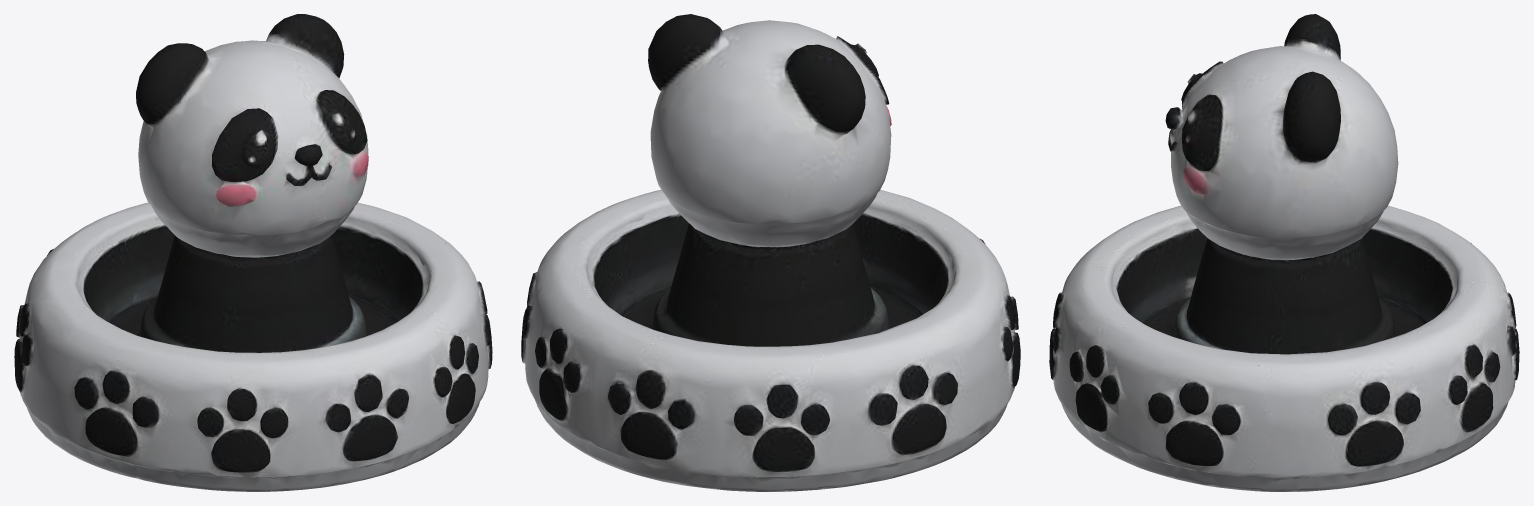
The model's file is mallet-panda.glb.
3 views of the same model, side by side, from view 1: azimuth 30°, elevation 25°; view 2: azimuth 150°, elevation 25°; view 3: azimuth 270°, elevation 25° (orthographic). The views are drawn at different scales.
Parts seen in each view (by area): view 1: tripo_node_6b4b7de1-1f06-4921-b499-4c4f0bf6fdb8; view 2: tripo_node_6b4b7de1-1f06-4921-b499-4c4f0bf6fdb8; view 3: tripo_node_6b4b7de1-1f06-4921-b499-4c4f0bf6fdb8.
Part boxes in pixels (x1=…): tripo_node_6b4b7de1-1f06-4921-b499-4c4f0bf6fdb8: x1=14, y1=14, x2=492, y2=491; tripo_node_6b4b7de1-1f06-4921-b499-4c4f0bf6fdb8: x1=521, y1=14, x2=1020, y2=491; tripo_node_6b4b7de1-1f06-4921-b499-4c4f0bf6fdb8: x1=1049, y1=14, x2=1519, y2=491.
Bounding box in the file's own units: 0.9942 × 0.8263 × 1.
Materials: 1 (1 with a texture image).
